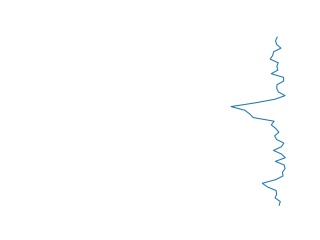interdistributaryEstuary: (227, 36, 292, 207)
